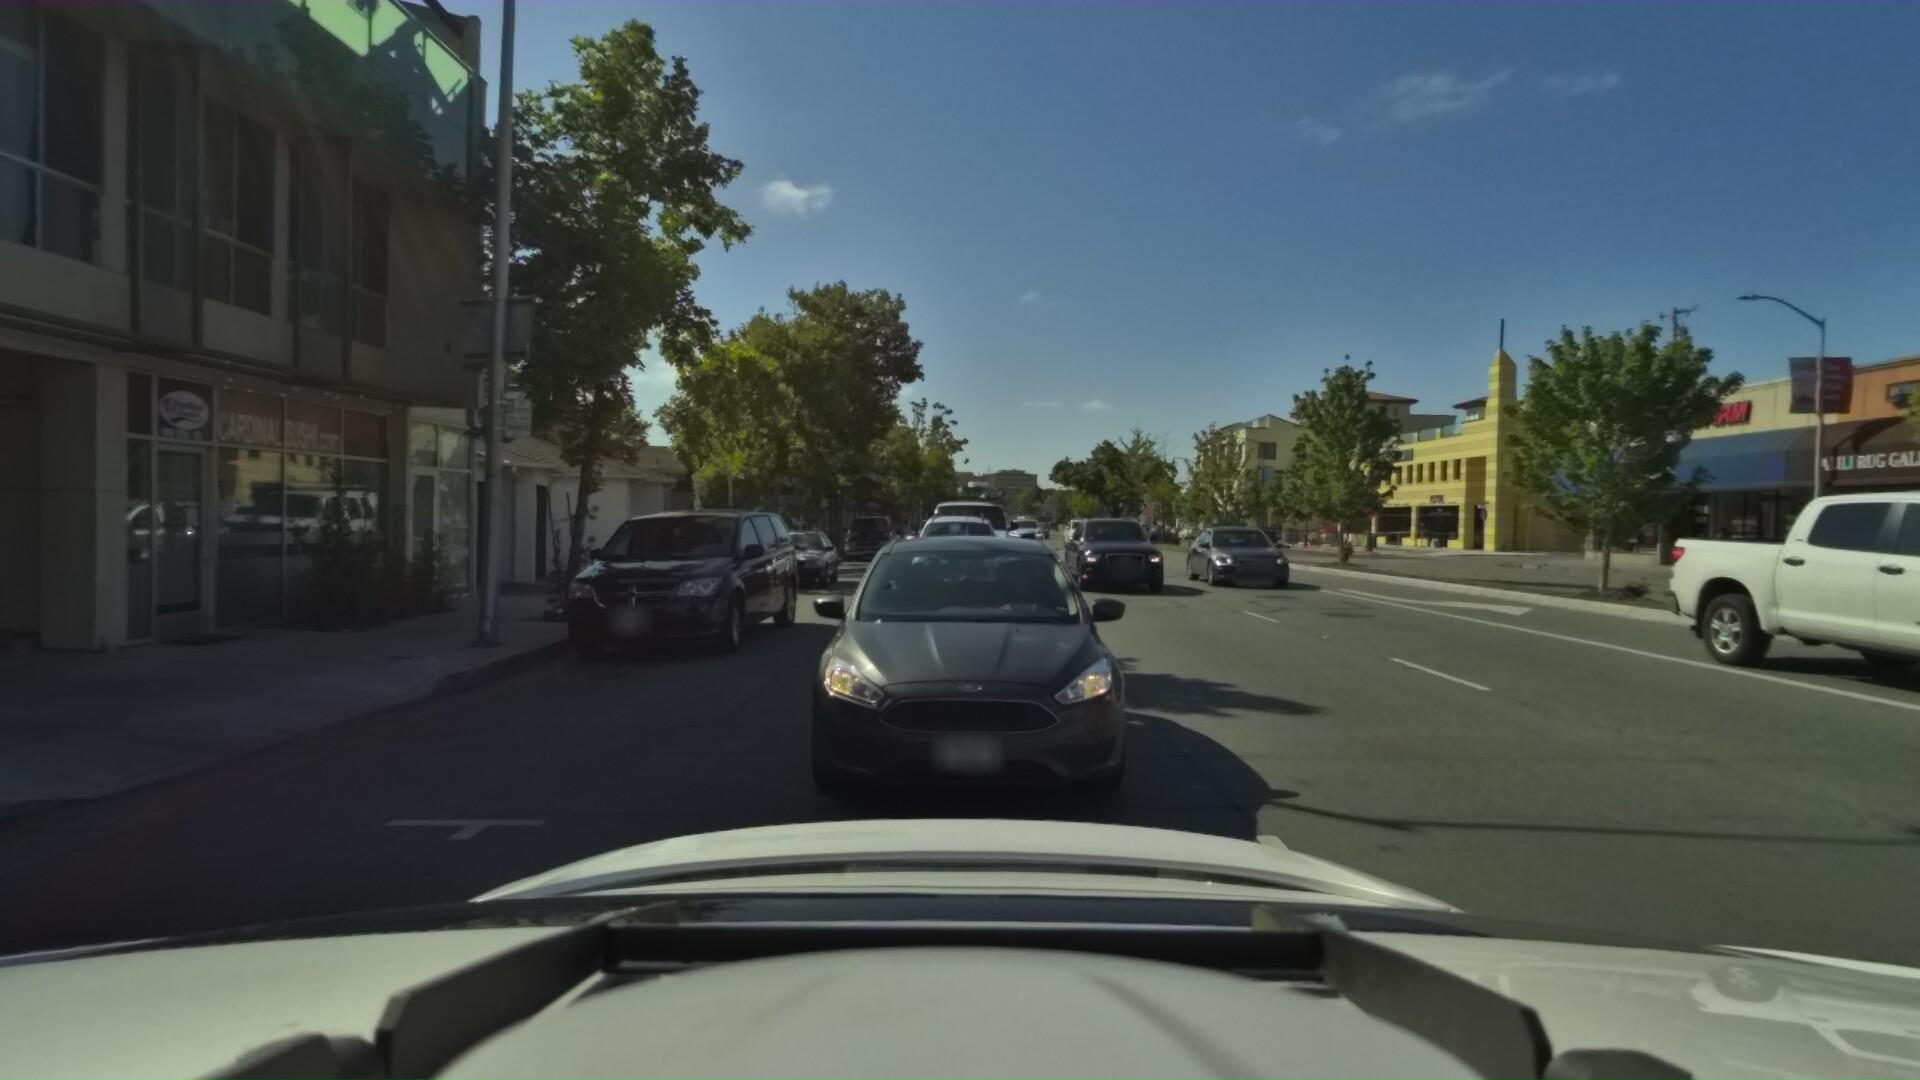car: (779, 517, 1160, 844), (1651, 448, 1920, 761), (534, 495, 808, 667), (901, 506, 1007, 605), (920, 473, 1015, 575), (1058, 512, 1164, 593), (1174, 518, 1288, 589), (757, 521, 843, 589), (840, 509, 905, 560), (1060, 516, 1101, 549), (1005, 514, 1043, 549), (1245, 520, 1280, 542)
